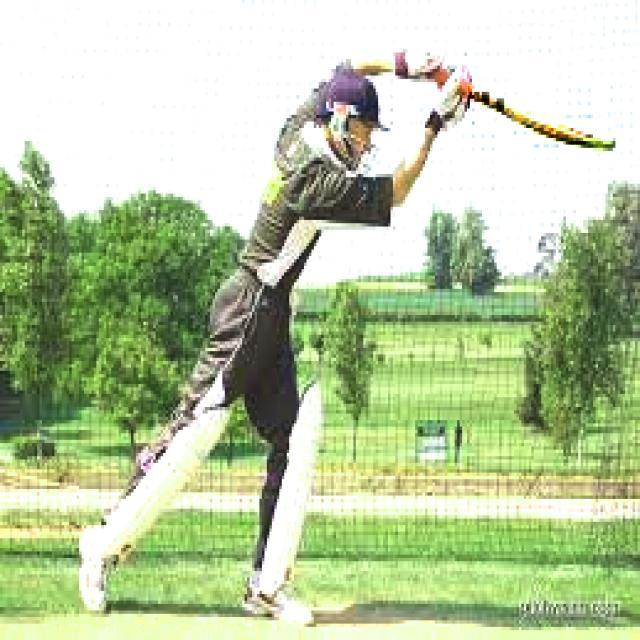bat: (470, 93, 622, 157)
